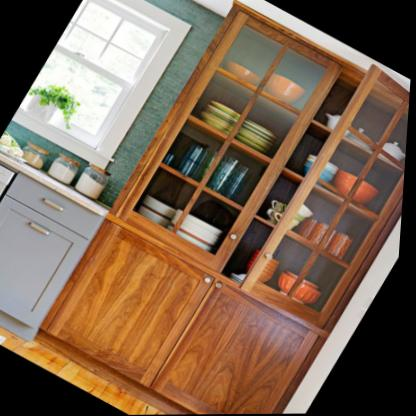Cupboard: (39, 2, 411, 415)
Wooden floor: (0, 324, 172, 415)
